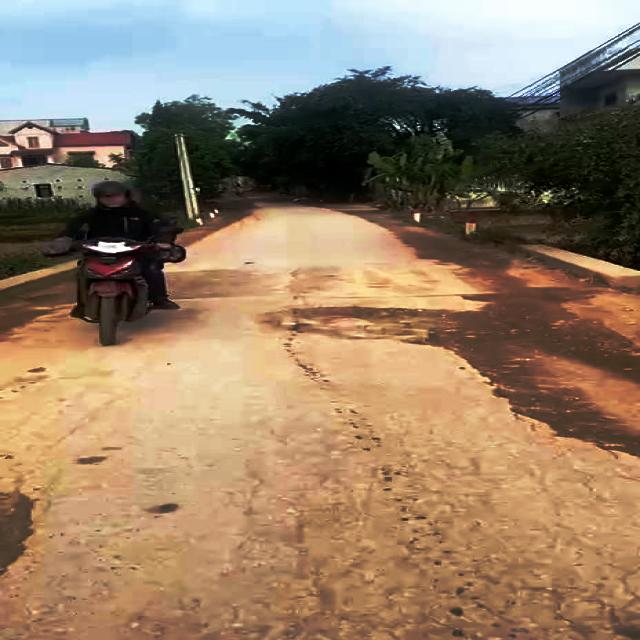pothole: (270, 297, 480, 342)
